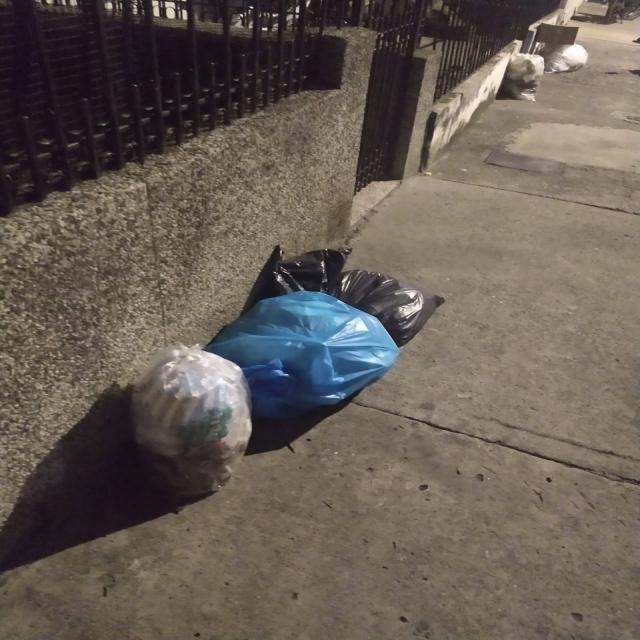Trashbag: (254, 240, 446, 338)
